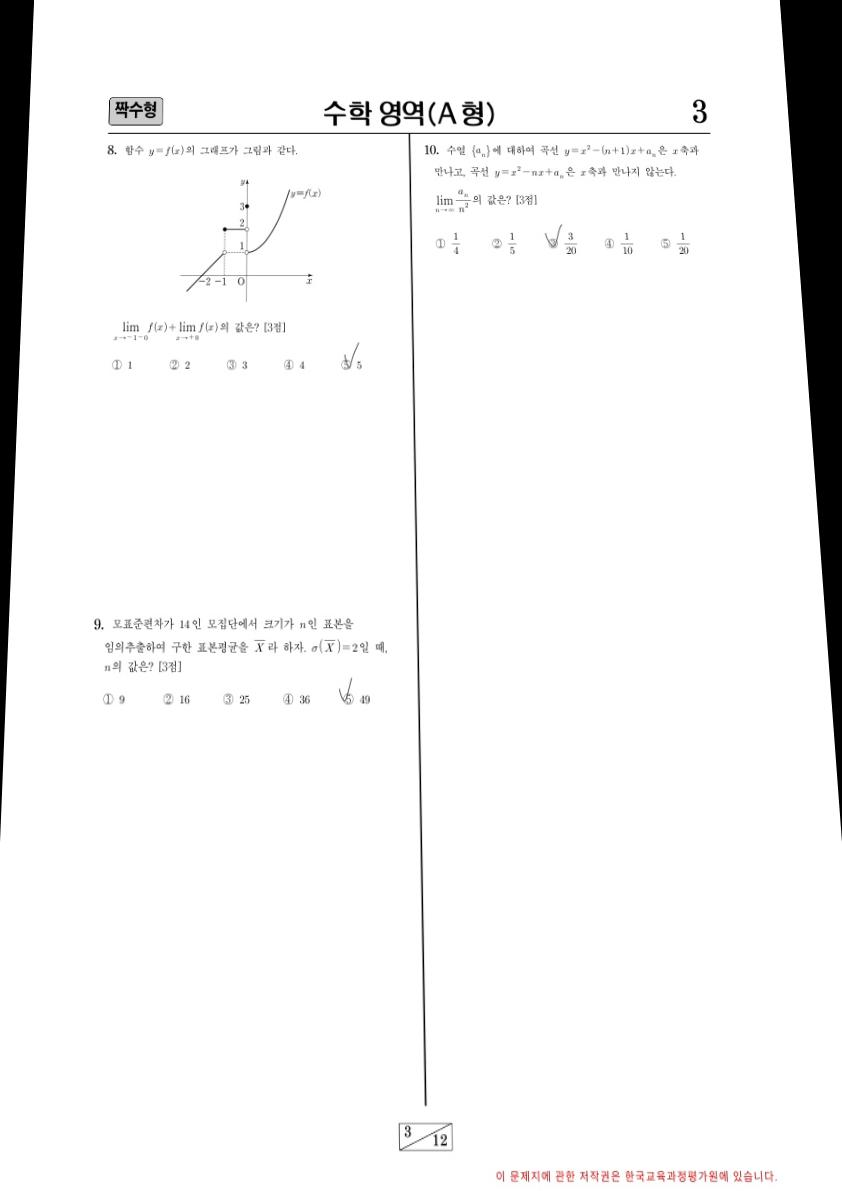question: (84, 136, 377, 390), (415, 134, 710, 273), (77, 608, 393, 715)
